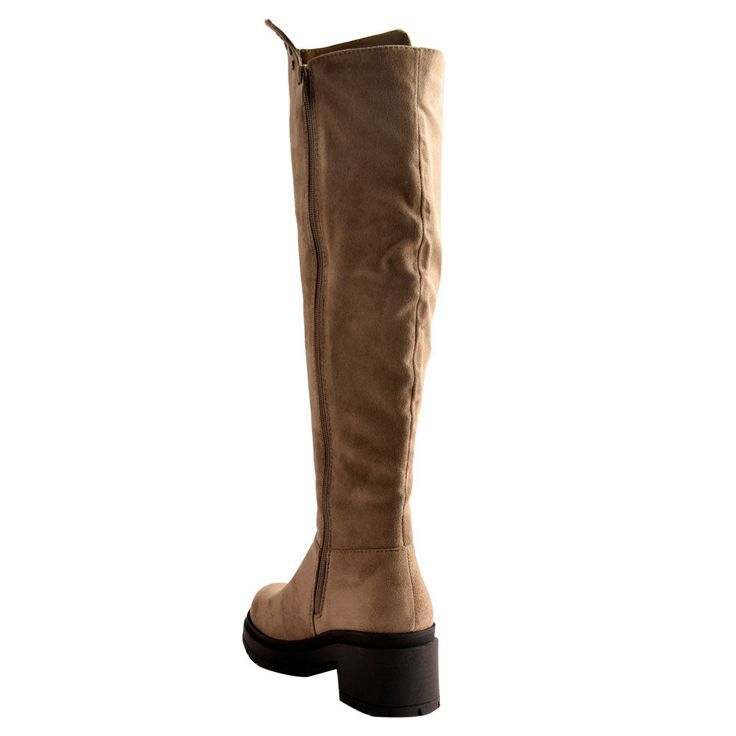gamuza: (248, 17, 436, 641)
